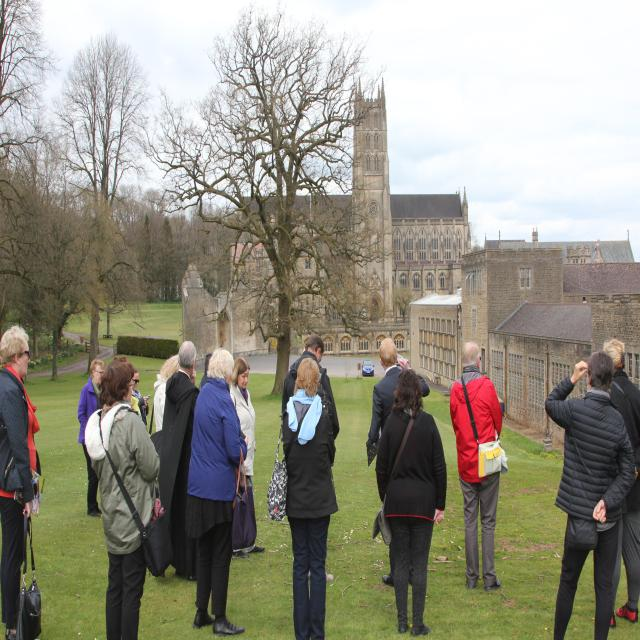body: (541, 349, 634, 640), (84, 355, 162, 640), (370, 364, 448, 639), (186, 345, 258, 636), (366, 336, 430, 588), (280, 357, 336, 639), (449, 339, 509, 592), (281, 333, 338, 584), (0, 323, 44, 640), (602, 339, 640, 629), (161, 340, 201, 582), (228, 356, 266, 559), (76, 359, 107, 517), (153, 353, 179, 433), (130, 368, 150, 432), (201, 355, 212, 391)
